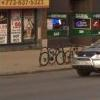Bicycle: (37, 38, 74, 69)
